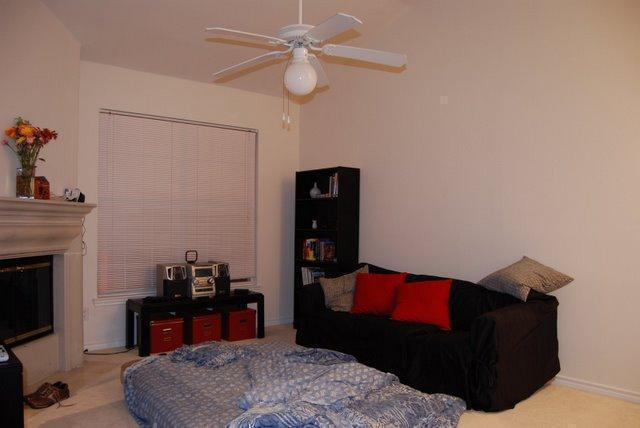Cama: (110, 347, 459, 427)
Otro Obstaculo: (25, 381, 79, 423)
Ventana: (99, 115, 253, 283)
